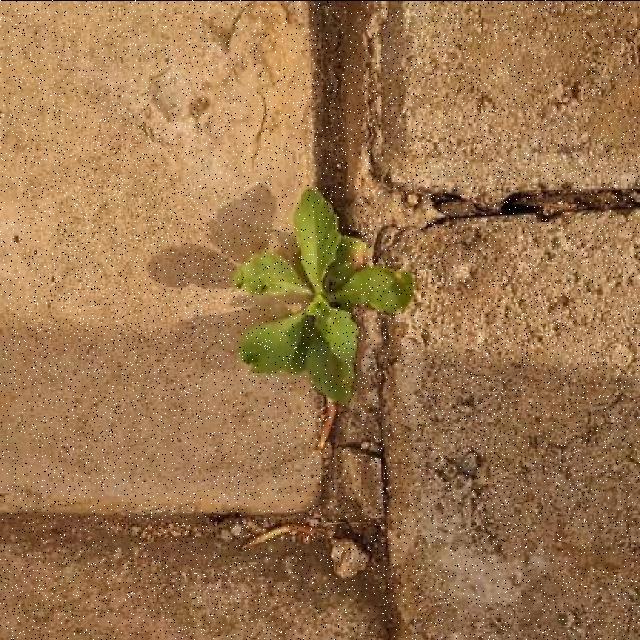weed: (234, 188, 413, 402), (234, 189, 412, 402)
